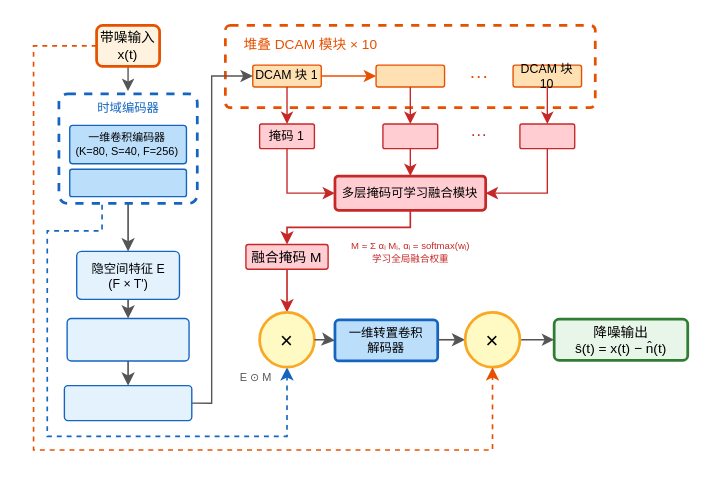
Image size: 714x485. Some labels were removed from this diagram. Here are the shapes that lost their labels. From the top down, the box of each, then its label:
(375, 64, 445, 87): DCAM 块 2
(382, 123, 438, 149): 掩码 2
(519, 123, 575, 149): 掩码 10
(68, 168, 186, 197): PReLU + 层归一化
(66, 317, 189, 361): 重叠分段 (K=500, H=250)
(63, 384, 192, 421): W ∈ ℝ^(F×K×N) (256×500×N)
